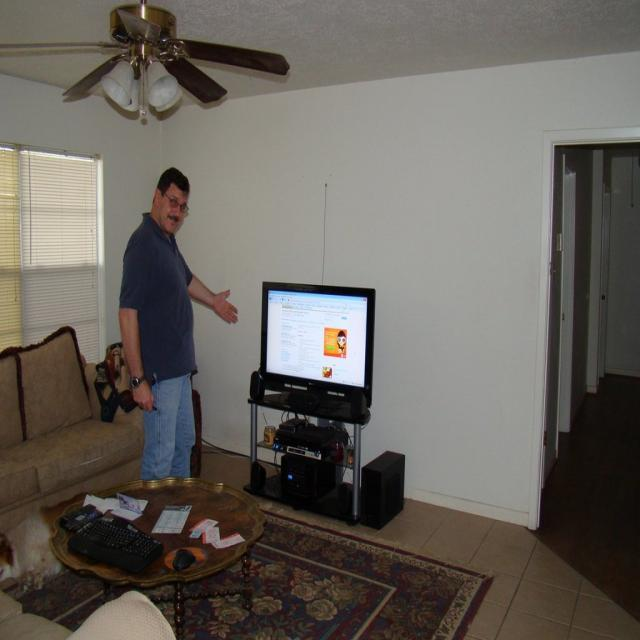fan_off: (0, 0, 299, 108)
